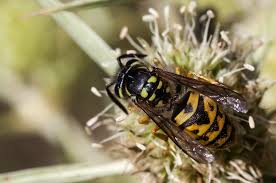chax: (105, 51, 268, 164)
